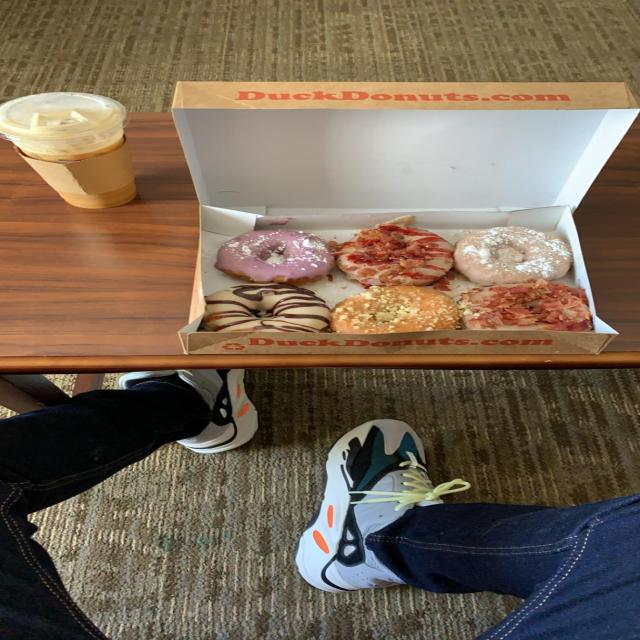shoes: (292, 417, 451, 597), (104, 371, 264, 455)
